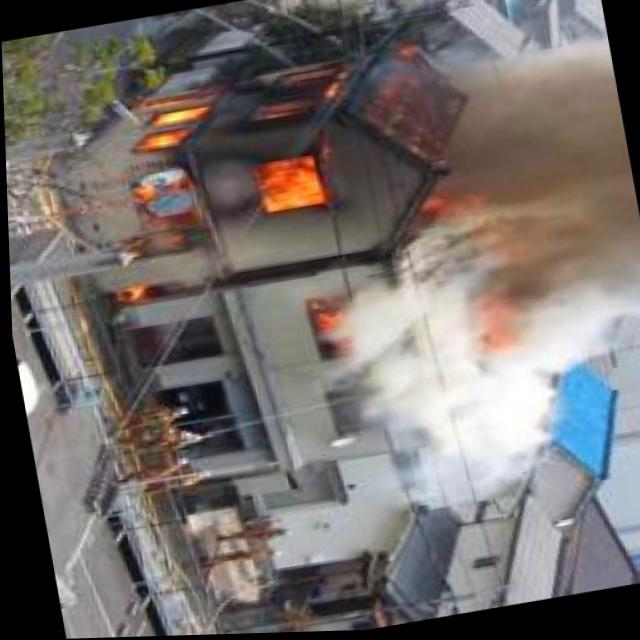Fire: (65, 48, 395, 316), (301, 299, 359, 377)
